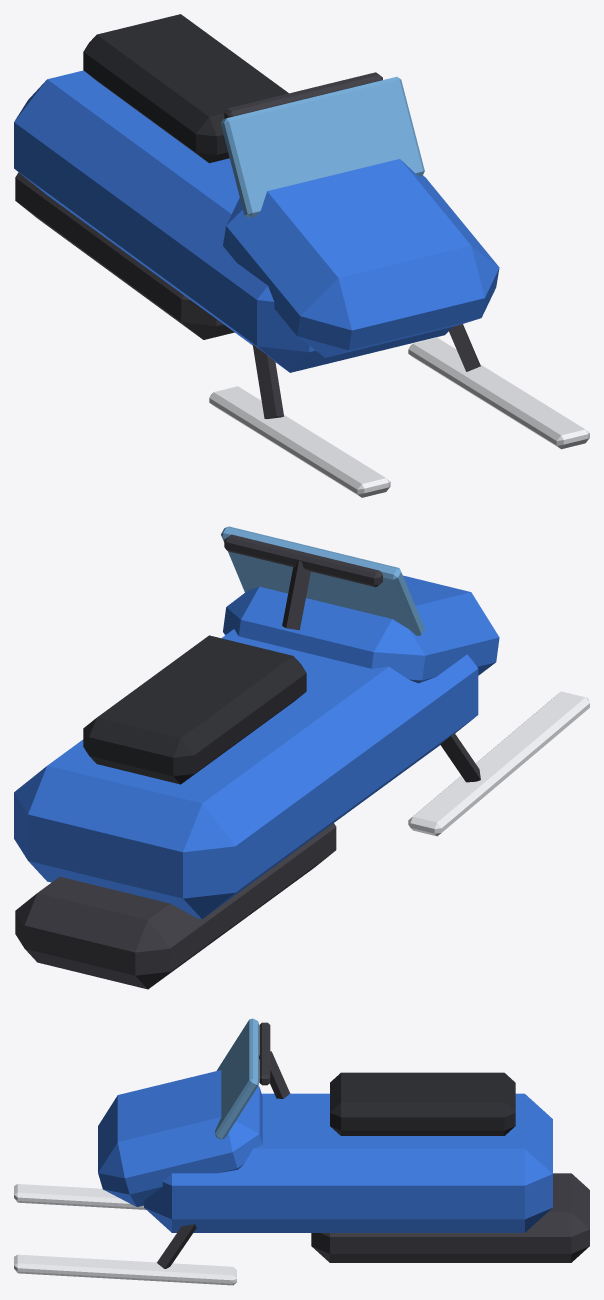
The model's file is Snowmobile.fbx.
3 views of the same model, one above another, from view 1: azimuth 30°, elevation 25°; view 2: azimuth 150°, elevation 25°; view 3: azimuth 270°, elevation 25° (orthographic). The views are drawn at different scales.
Visible parts, largest first — view 1: Snowmobile; view 2: Snowmobile; view 3: Snowmobile.
Boxes of the visible parts, box(x1,y1,x2,y2) form: Snowmobile: box(14, 14, 589, 497); Snowmobile: box(14, 526, 589, 989); Snowmobile: box(14, 1018, 589, 1285).
Size of the model in its own units: 2.1 by 2.34 by 6.2.
1 material, 1 textured.
